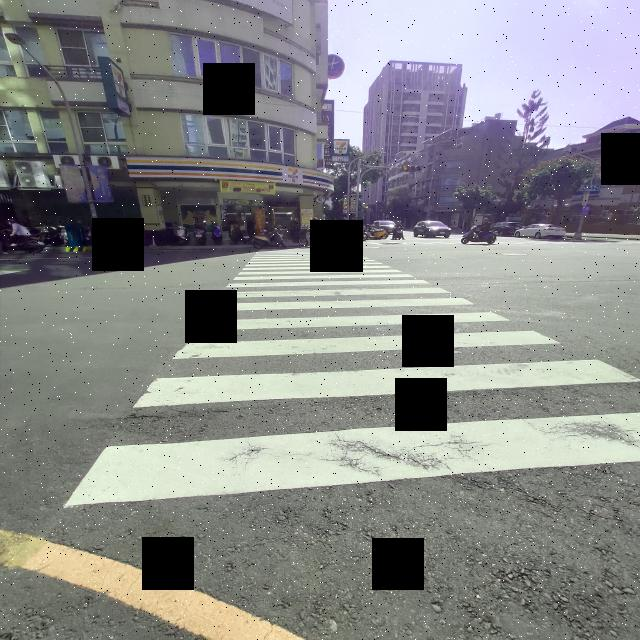zebra crossing: (65, 243, 640, 505), (368, 241, 457, 246), (498, 241, 610, 244)
